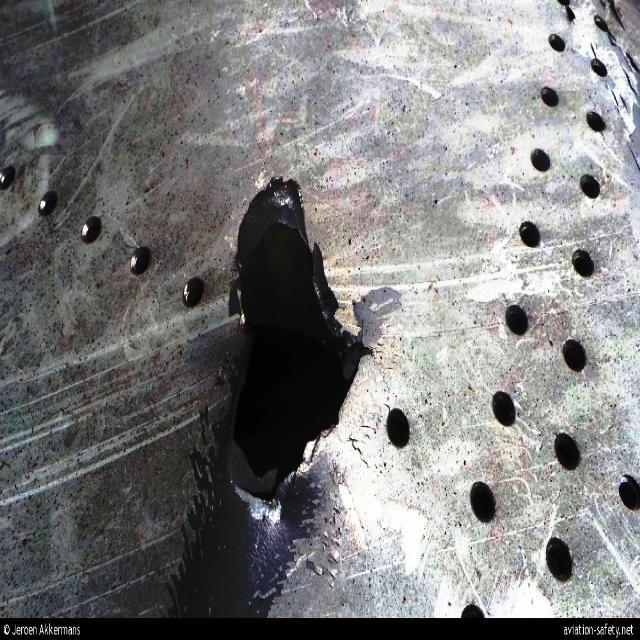crack: (230, 179, 375, 518)
